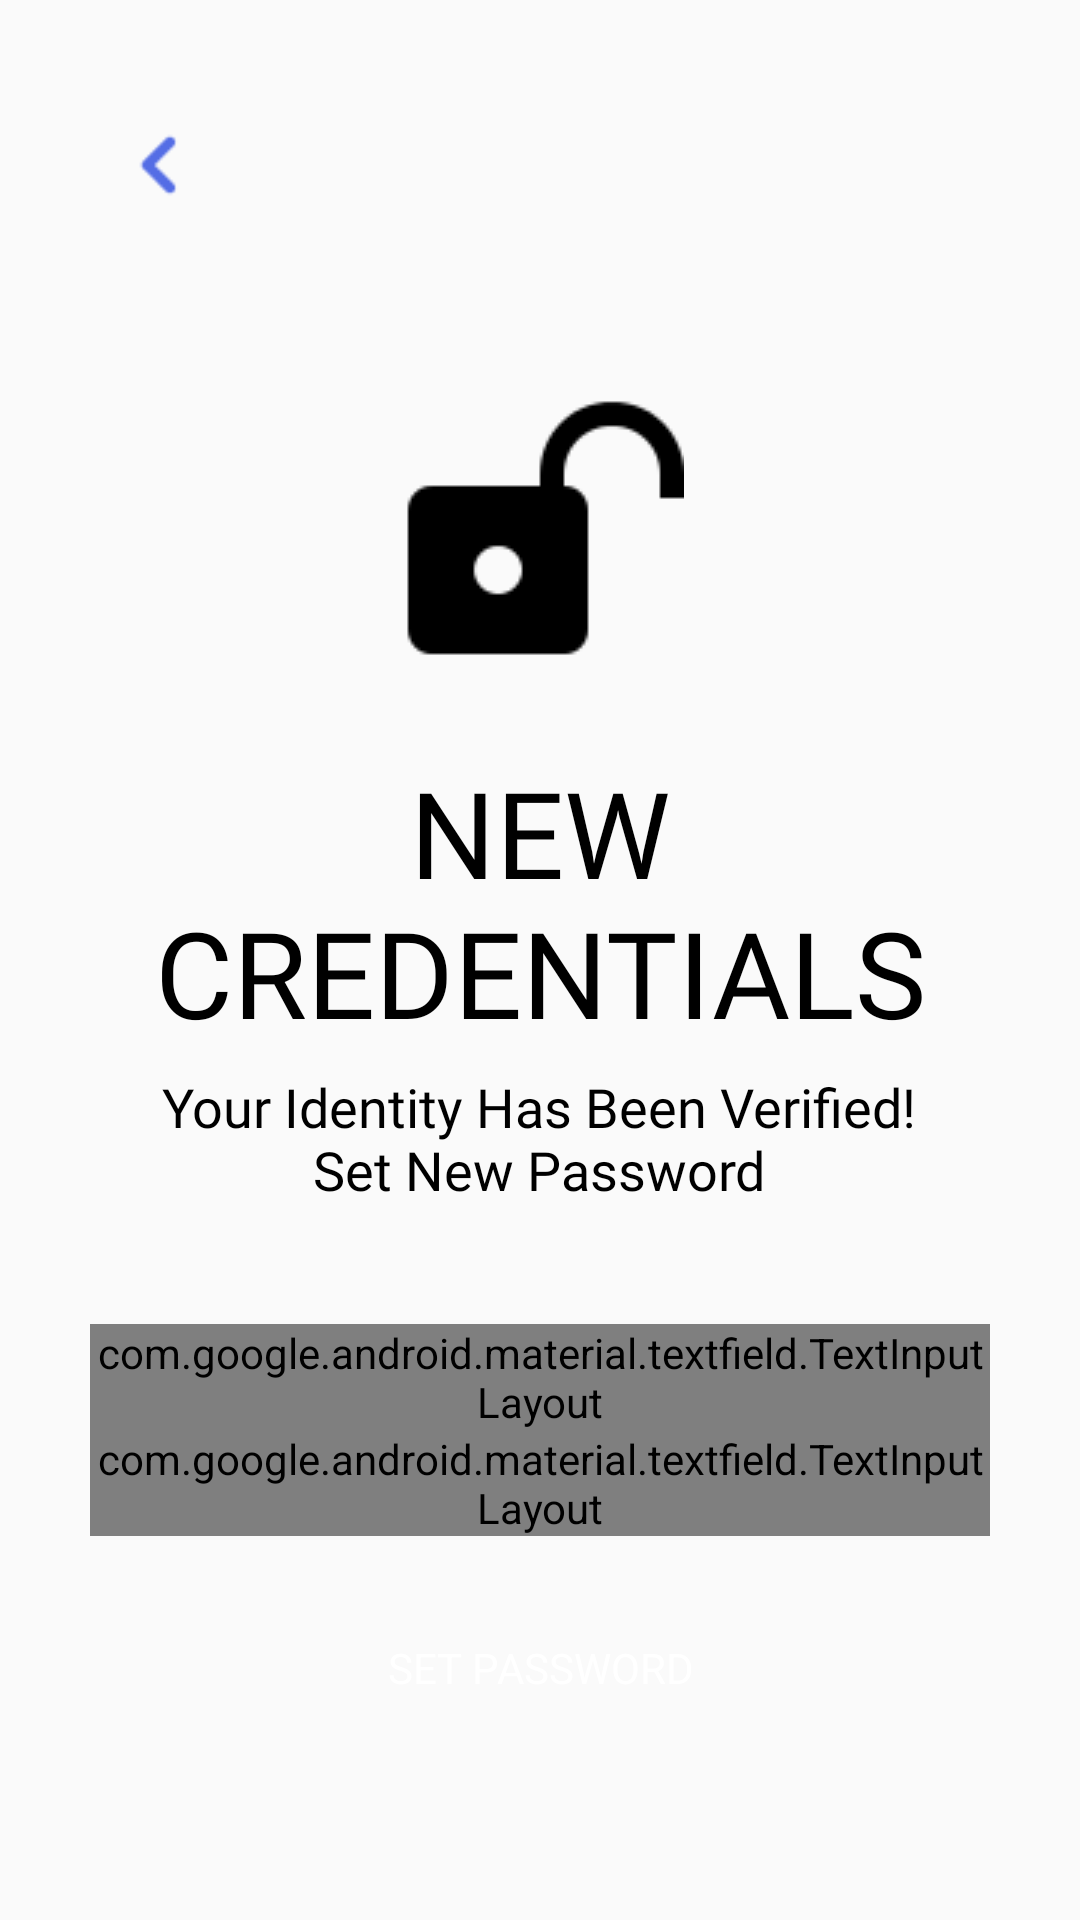

Where to tap for icons on this 1080*1920 app screen, as (x=x, y=y):
New Pass Back Button: (x=158, y=165)
unlock: (x=545, y=528)
